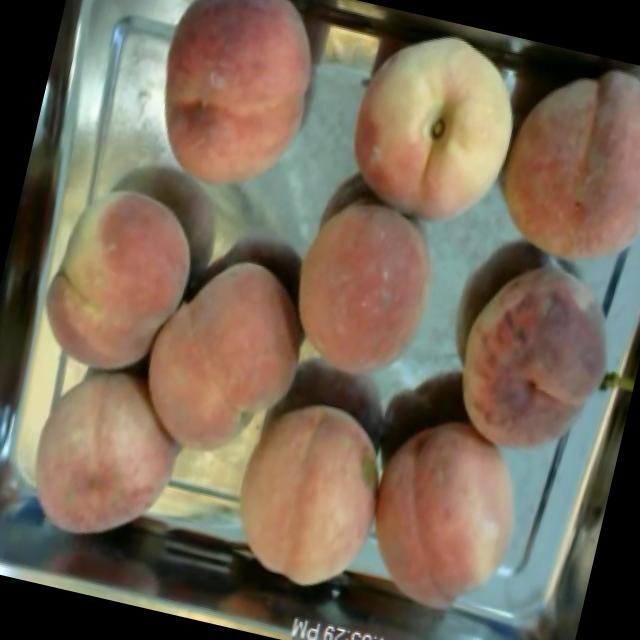Fruit: (420, 222, 640, 486), (110, 228, 334, 484), (316, 2, 536, 254), (8, 161, 224, 401), (260, 166, 471, 402), (0, 336, 209, 570), (351, 396, 548, 634), (127, 0, 343, 214), (204, 376, 398, 606), (476, 40, 640, 305)
